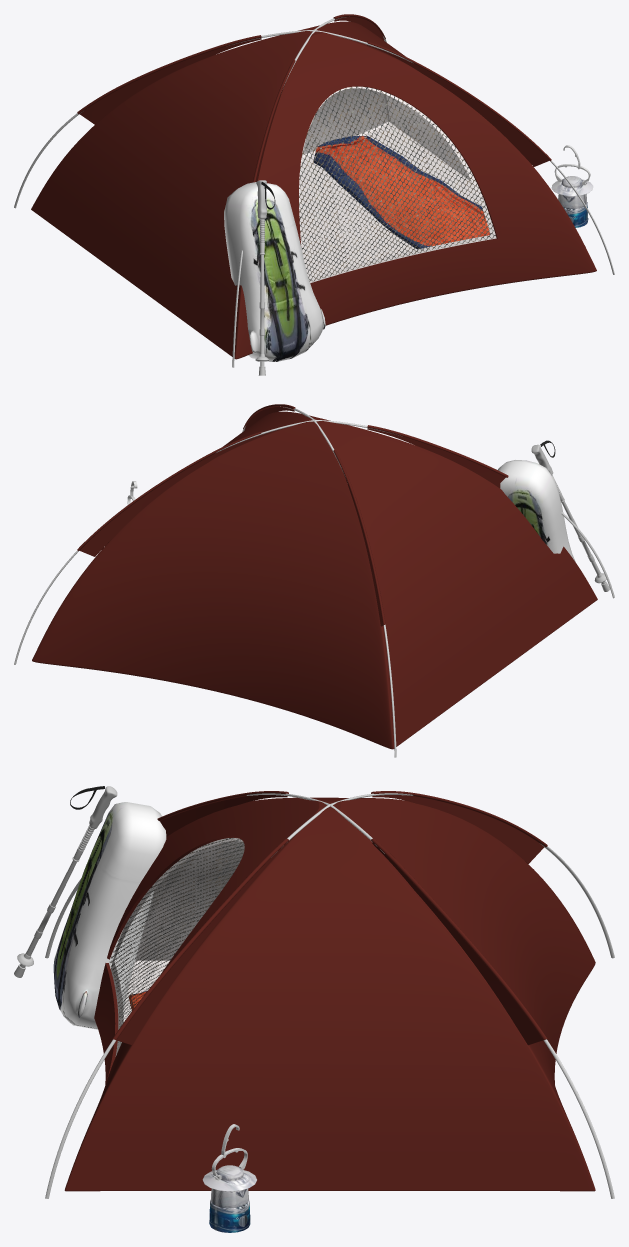
The model's file is failure.fbx.
3 renders of one model, top to bottom at view 1: azimuth 30°, elevation 25°; view 2: azimuth 150°, elevation 25°; view 3: azimuth 270°, elevation 25°, orthographic. The views are drawn at different scales.
Parts seen in each view (by area): view 1: Box02, Box33390, aaaaaaaaa, Box04, Box12, Line25, Line21531, Line04, Line01, Arc17, Arc04, Arc01 (+1 smaller); view 2: Box02, Box04, Line21529, Line21530, Arc13, Arc17, Line01, Arc15, Arc14, Arc18; view 3: Box02, Box04, Box33390, aaaaaaaaa, Line04, Line21531, Line21529, Line25, Arc13, Arc04, Line21530, Line01 (+4 smaller).
Part boxes in pixels (x1=…): Box02: x1=31, y1=21, x2=596, y2=359; Box33390: x1=299, y1=86, x2=496, y2=282; aaaaaaaaa: x1=299, y1=86, x2=495, y2=281; Box04: x1=224, y1=182, x2=325, y2=361; Box12: x1=314, y1=136, x2=489, y2=249; Line25: x1=367, y1=45, x2=549, y2=166; Line21531: x1=80, y1=38, x2=261, y2=124; Line04: x1=551, y1=176, x2=593, y2=227; Line01: x1=255, y1=219, x2=268, y2=375; Arc17: x1=77, y1=35, x2=261, y2=114; Arc04: x1=367, y1=41, x2=551, y2=161; Arc01: x1=315, y1=30, x2=614, y2=274; Box02: x1=32, y1=411, x2=597, y2=749; Box04: x1=498, y1=460, x2=575, y2=562; Line21529: x1=79, y1=435, x2=261, y2=556; Line21530: x1=367, y1=428, x2=505, y2=488; Arc13: x1=77, y1=431, x2=261, y2=551; Arc17: x1=333, y1=449, x2=385, y2=625; Line01: x1=552, y1=475, x2=609, y2=591; Arc15: x1=367, y1=425, x2=508, y2=477; Arc14: x1=14, y1=420, x2=313, y2=664; Arc18: x1=313, y1=419, x2=396, y2=757; Box02: x1=64, y1=797, x2=595, y2=1191; Box04: x1=53, y1=802, x2=166, y2=1029; Box33390: x1=110, y1=838, x2=244, y2=1056; aaaaaaaaa: x1=109, y1=837, x2=244, y2=1052; Line04: x1=202, y1=1165, x2=256, y2=1232; Line21531: x1=372, y1=795, x2=544, y2=863; Line21529: x1=372, y1=842, x2=543, y2=1045; Line25: x1=116, y1=842, x2=287, y2=1045; Arc13: x1=371, y1=838, x2=547, y2=1040; Arc04: x1=112, y1=838, x2=288, y2=1040; Line21530: x1=160, y1=795, x2=287, y2=836; Line01: x1=14, y1=825, x2=94, y2=977.
Bounding box in the file's own units: 2344 × 2194 × 1200.
